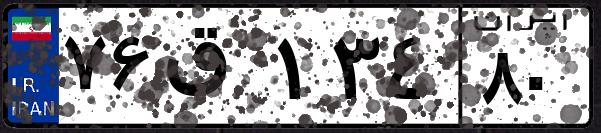0: (525, 38, 570, 115)
1: (270, 28, 330, 110)
3: (330, 28, 385, 110)
4: (385, 28, 445, 110)
6: (110, 28, 158, 98)
7: (57, 26, 110, 100)
8: (475, 38, 525, 113)
ق: (158, 20, 270, 120)
